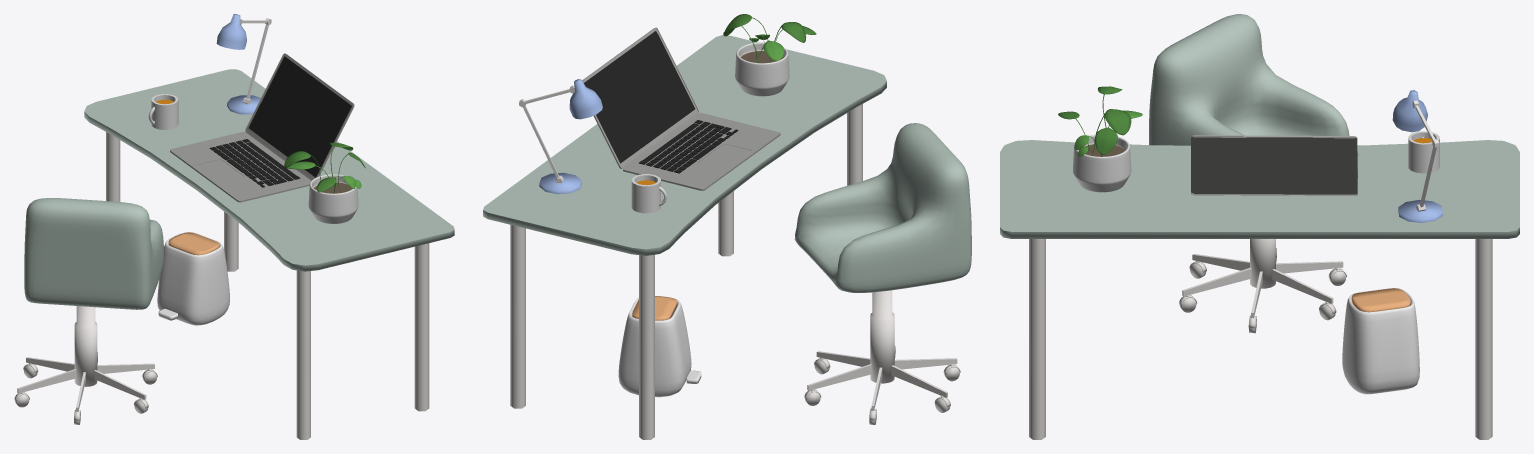
File: office.glb
The picture shows the model from 3 angles, left to right: view 1: azimuth 30°, elevation 25°; view 2: azimuth 150°, elevation 25°; view 3: azimuth 270°, elevation 25°; orthographic projection. The views are drawn at different scales.
Visible parts, largest first — view 1: desk, Chair, huitugou_5160_219, mac-screen, mac-body, Floor Items.001, Floor Items, Table Stuff.001, mac-keys, Table Stuff.002, Floor Items.002, lamp-top (+1 smaller); view 2: desk, Chair, huitugou_5160_219, mac-screen, mac-body, Floor Items, Floor Items.001, Table Stuff.001, mac-keys, Table Stuff.002, lamp-top, lamp-bottom (+2 smaller); view 3: desk, Chair, mac-back, huitugou_5160_219, Floor Items.001, Floor Items, Table Stuff.001, Floor Items.002, mac-body, Table Stuff.002, lamp-top, lamp-bottom.
Part boxes in pixels (x1,y1,x2,y2): desk: (84, 69, 454, 271); Chair: (24, 198, 163, 309); huitugou_5160_219: (106, 132, 429, 439); mac-screen: (248, 56, 351, 177); mac-body: (170, 53, 354, 202); Floor Items.001: (157, 232, 229, 325); Floor Items: (14, 306, 157, 424); Table Stuff.001: (284, 142, 365, 223); mac-keys: (209, 139, 300, 187); Table Stuff.002: (148, 94, 178, 129); Floor Items.002: (168, 232, 219, 255); lamp-top: (216, 14, 246, 49); desk: (483, 35, 886, 255); Chair: (794, 123, 971, 292); huitugou_5160_219: (510, 104, 862, 439); mac-screen: (584, 31, 695, 163); mac-body: (582, 27, 780, 190); Floor Items: (804, 290, 960, 424); Floor Items.001: (618, 296, 701, 397); Table Stuff.001: (723, 14, 816, 96); mac-keys: (639, 120, 738, 173); Table Stuff.002: (631, 174, 667, 213); lamp-top: (569, 79, 602, 119); lamp-bottom: (539, 172, 581, 194); desk: (1000, 140, 1519, 238); Chair: (1149, 14, 1349, 145); mac-back: (1193, 137, 1355, 194); huitugou_5160_219: (1029, 239, 1492, 439); Floor Items.001: (1342, 288, 1419, 394); Floor Items: (1179, 239, 1346, 333); Table Stuff.001: (1058, 86, 1142, 192); Floor Items.002: (1351, 288, 1410, 312); mac-body: (1191, 135, 1358, 195); Table Stuff.002: (1408, 131, 1439, 173); lamp-top: (1392, 90, 1427, 132); lamp-bottom: (1398, 200, 1442, 222).
Size of the model in its own units: 4.46 by 3.64 by 5.18.
